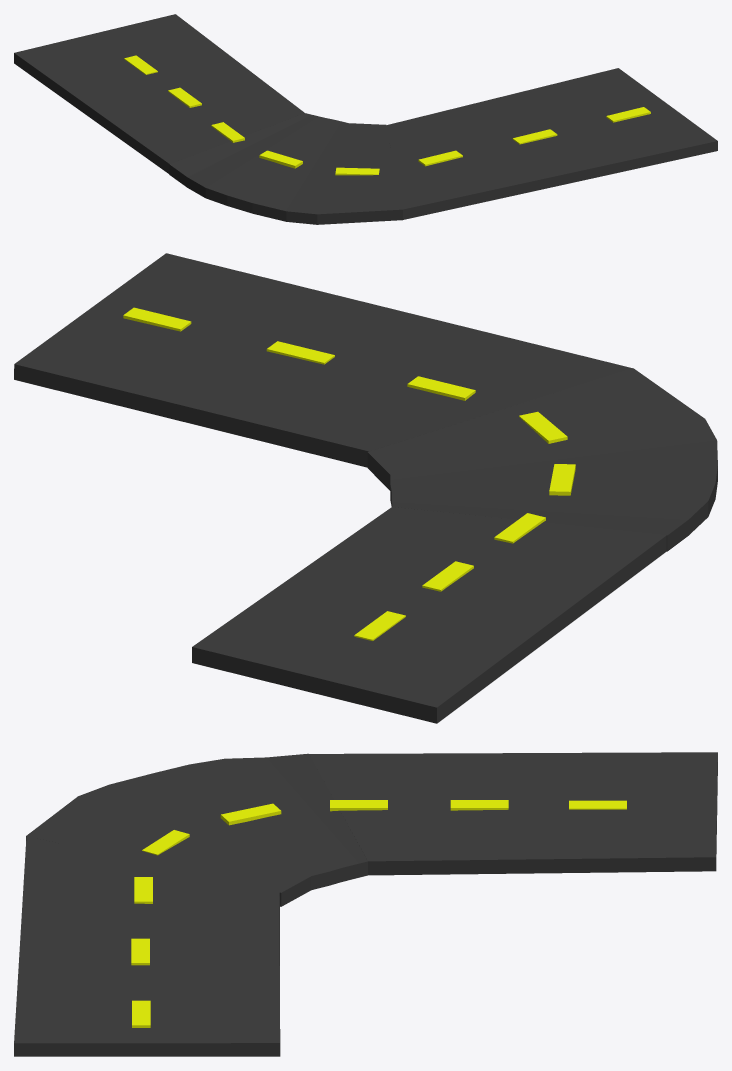
Rendered from CurveRoadblend.fbx.
3 renders of one model, top to bottom at view 1: azimuth 30°, elevation 25°; view 2: azimuth 150°, elevation 25°; view 3: azimuth 270°, elevation 25°, orthographic. The views are drawn at different scales.
Parts seen in each view (by area): view 1: Cube, Cube.001, Cube.005, Cube.006, Cube.008, Cube.009; view 2: Cube, Cube.001, Cube.008, Cube.006, Cube.007, Cube.009, Cube.004, Cube.003; view 3: Cube, Cube.001, Cube.005, Cube.004, Cube.003, Cube.002, Cube.009, Cube.006, Cube.007, Cube.008.
Part boxes in pixels (bbox=[...]): Cube: bbox=[14, 14, 402, 224]; Cube.001: bbox=[386, 68, 717, 219]; Cube.005: bbox=[259, 150, 302, 168]; Cube.006: bbox=[606, 107, 650, 122]; Cube.008: bbox=[418, 150, 462, 166]; Cube.009: bbox=[335, 167, 379, 175]; Cube: bbox=[192, 368, 717, 723]; Cube.001: bbox=[14, 253, 632, 467]; Cube.008: bbox=[407, 376, 475, 400]; Cube.006: bbox=[123, 307, 191, 331]; Cube.007: bbox=[266, 341, 334, 364]; Cube.009: bbox=[519, 411, 567, 443]; Cube.004: bbox=[494, 513, 545, 543]; Cube.003: bbox=[422, 561, 473, 591]; Cube: bbox=[26, 752, 717, 906]; Cube.001: bbox=[14, 836, 280, 1056]; Cube.005: bbox=[220, 803, 281, 825]; Cube.004: bbox=[330, 800, 387, 811]; Cube.003: bbox=[450, 800, 508, 810]; Cube.002: bbox=[569, 800, 626, 809]; Cube.009: bbox=[142, 830, 189, 855]; Cube.006: bbox=[132, 1000, 150, 1027]; Cube.007: bbox=[131, 938, 149, 965]; Cube.008: bbox=[134, 877, 152, 903].
Size of the model in its own units: 7255 by 240 by 7511.
